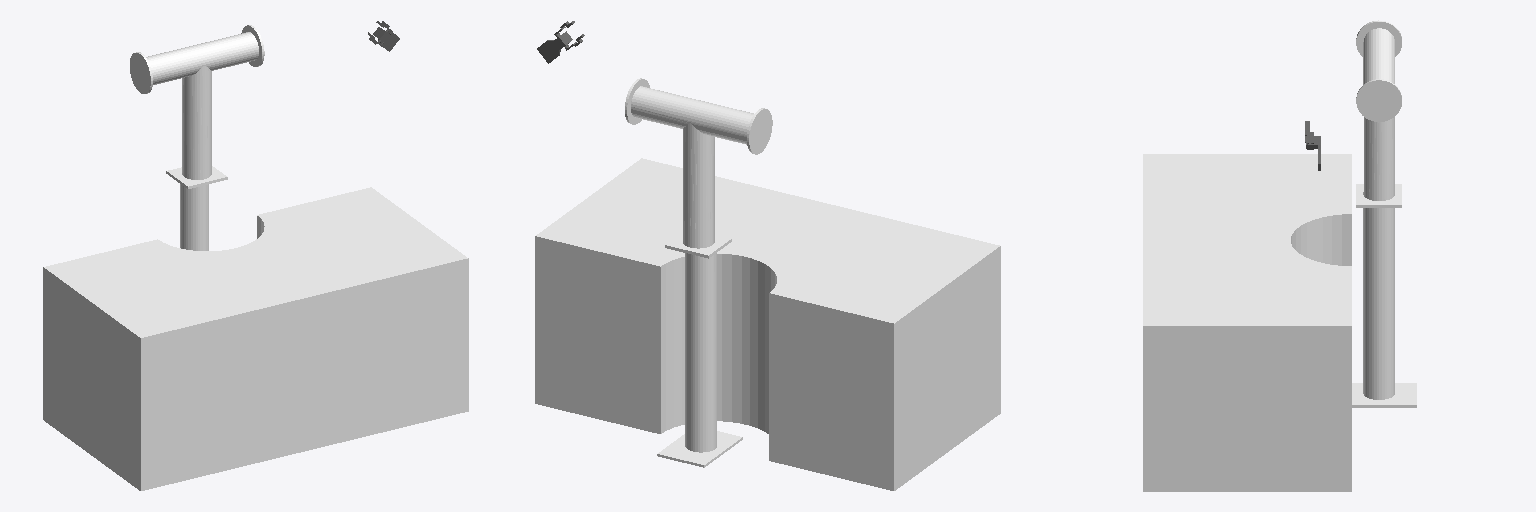
URDF robot description (aubo_i5):
<?xml version="1.0"?>
<robot  name="aubo_i5">

  <link name="base_link">
    <inertial>
      <origin xyz="-1.4795E-13 0.0015384 0.020951" rpy="0 0 0" />
      <mass value="0.83419" />
      <inertia ixx="0.0014414" ixy="7.8809E-15" ixz="8.5328E-16" iyy="0.0013542" iyz="-1.4364E-05" izz="0.0024659" />
    </inertial>
    <visual>
      <origin xyz="0 0 0" rpy="0 0 0" />
      <geometry>
        <mesh filename="package://aubo_description/meshes/aubo_i5/visual/base_link.DAE" />
      </geometry>
      <material name="">
        <color rgba="1 1 1 1" />
      </material>
    </visual>
    <collision>
      <origin xyz="0 0 0" rpy="0 0 0" />
      <geometry>
        <mesh filename="package://aubo_description/meshes/aubo_i5/collision/base_link.STL" />
      </geometry>
    </collision>
  </link>

  <link name="shoulder_Link">
    <inertial>
      <origin xyz="3.2508868974735E-07 0.00534955349296065 -0.00883689325611056" rpy="0 0 0" />
      <mass value="1.57658348693929" />
      <inertia ixx="0.0040640448663128" ixy="0" ixz="0" iyy="0.00392863238466817" iyz="-0.000160151642851425" izz="0.0030869857349184" />
    </inertial>
    <visual>
      <origin xyz="0 0 0" rpy="0 0 0" />
      <geometry>
        <mesh filename="package://aubo_description/meshes/aubo_i5/visual/shoulder_Link.DAE" />
      </geometry>
      <material name="">
        <color rgba="1 1 1 1" />
      </material>
    </visual>
    <collision>
      <origin xyz="0 0 0" rpy="0 0 0" />
      <geometry>
        <mesh filename="package://aubo_description/meshes/aubo_i5/collision/shoulder_Link.STL" />
      </geometry>
    </collision>
  </link>

  <joint name="shoulder_joint" type="revolute">
    <origin xyz="0 0 0.122" rpy="0 0 3.1416" />
    <parent link="base_link" />
    <child link="shoulder_Link" />
    <axis xyz="0 0 1" />
    <limit lower="-3.05" upper="3.05" effort="0" velocity="0" />
  </joint>

  <link name="upperArm_Link">
    <inertial>
      <origin xyz="0.203996646979614 2.01304585036544E-10 0.0127641545395984" rpy="0 0 0" />
      <mass value="4.04175782265494" />
      <inertia ixx="0.00965399211106204" ixy="0" ixz="0" iyy="0.144993869035655" iyz="0" izz="0.142607184038966" />
    </inertial>
    <visual>
      <origin xyz="0 0 0" rpy="0 0 0" />
      <geometry>
        <mesh filename="package://aubo_description/meshes/aubo_i5/visual/upperArm_Link.DAE" />
      </geometry>
      <material name="">
        <color rgba="1 1 1 1" />
      </material>
    </visual>
    <collision>
      <origin xyz="0 0 0" rpy="0 0 0" />
      <geometry>
        <mesh filename="package://aubo_description/meshes/aubo_i5/collision/upperArm_Link.STL" />
      </geometry>
    </collision>
  </link>

  <joint name="upperArm_joint" type="revolute">
    <origin xyz="0 0.1215 0" rpy="-1.5708 -1.5708 0" />
    <parent link="shoulder_Link" />
    <child link="upperArm_Link" />
    <axis xyz="0 0 1" />
    <limit lower="-3.05" upper="3.05" effort="0" velocity="0" />
  </joint>

  <link name="foreArm_Link">
    <inertial>
      <origin xyz="0.188922115560337 6.78882434739072E-07 0.0981026740461557" rpy="0 0 0" />
      <mass  value="2.27145669098343" />
      <inertia ixx="0.00214322284946289" ixy="0" ixz="-0.00073120631553383" iyy="0.0443926090878205" iyz="0" izz="0.0441273797128365" />
    </inertial>
    <visual>
      <origin xyz="0 0 0" rpy="0 0 0" />
      <geometry>
        <mesh filename="package://aubo_description/meshes/aubo_i5/visual/foreArm_Link.DAE" />
      </geometry>
      <material name="">
        <color rgba="1 1 1 1" />
      </material>
    </visual>
    <collision>
      <origin xyz="0 0 0" rpy="0 0 0" />
      <geometry>
        <mesh filename="package://aubo_description/meshes/aubo_i5/collision/foreArm_Link.STL" />
      </geometry>
    </collision>
  </link>

  <joint name="foreArm_joint" type="revolute">
    <origin xyz="0.408 0 0" rpy="-3.1416 -5.1632E-18 -5.459E-16" />
    <parent link="upperArm_Link" />
    <child link="foreArm_Link" />
    <axis xyz="0 0 1" />
    <limit lower="-3.05" upper="3.05" effort="0" velocity="0" />
  </joint>

  <link name="wrist1_Link">
    <inertial>
      <origin xyz="7.54205137428592E-07 0.0062481254331257 -0.00392367464072373" rpy="0 0 0" />
      <mass value="0.500477539188764" />
      <inertia ixx="0.00071194605962081" ixy="0" ixz="0" iyy="0.00040588242872958" iyz="-2.30808694377512E-05" izz="0.000685574004861334" />
    </inertial>
    <visual>
      <origin xyz="0 0 0" rpy="0 0 0" />
      <geometry>
        <mesh filename="package://aubo_description/meshes/aubo_i5/visual/wrist1_Link.DAE" />
      </geometry>
      <material name="">
        <color rgba="1 1 1 1" />
      </material>
    </visual>
    <collision>
      <origin xyz="0 0 0" rpy="0 0 0" />
      <geometry>
        <mesh filename="package://aubo_description/meshes/aubo_i5/collision/wrist1_Link.STL" />
      </geometry>
    </collision>
  </link>

  <joint name="wrist1_joint" type="revolute">
    <origin xyz="0.376 0 0" rpy="3.1416 -1.8323E-15 1.5708" />
    <parent link="foreArm_Link" />
    <child link="wrist1_Link" />
    <axis xyz="0 0 1" />
    <limit lower="-3.05" upper="3.05" effort="0" velocity="0" />
  </joint>

  <link name="wrist2_Link">
    <inertial>
      <origin xyz="-7.54207620578635E-07 -0.00624812542617262 -0.00392367464115684" rpy="0 0 0" />
      <mass value="0.500477539245988" />
      <inertia ixx="0.00071194605981829" ixy="0" ixz="0" iyy="0.000405882428755442" iyz="2.30808694515886E-05" izz="0.000685574005112107" />
    </inertial>
    <visual>
      <origin xyz="0 0 0" rpy="0 0 0" />
      <geometry>
        <mesh filename="package://aubo_description/meshes/aubo_i5/visual/wrist2_Link.DAE" />
      </geometry>
      <material name="">
        <color rgba="1 1 1 1" />
      </material>
    </visual>
    <collision>
      <origin xyz="0 0 0" rpy="0 0 0" />
      <geometry>
        <mesh filename="package://aubo_description/meshes/aubo_i5/collision/wrist2_Link.STL" />
      </geometry>
    </collision>
  </link>

  <joint name="wrist2_joint" type="revolute">
    <origin xyz="0 0.1025 0" rpy="-1.5708 -1.8709E-15 -1.6653E-16" />
    <parent link="wrist1_Link" />
    <child link="wrist2_Link" />
    <axis xyz="0 0 1" />
    <limit lower="-3.05" upper="3.05" effort="0" velocity="0" />
  </joint>

  <link name="wrist3_Link">
    <inertial>
      <origin xyz="3.92048778449938E-10 0.000175788057281467 -0.0213294490706684" rpy="0 0 0" />
      <mass value="0.158309554874285" />
      <inertia ixx="7.31376196034769E-05" ixy="0" ixz="0" iyy="7.19528188876563E-05" iyz="0" izz="0.000108772439051422" />
    </inertial>
    <visual>
      <origin xyz="0 0 0" rpy="0 0 0" />
      <geometry>
        <mesh filename="package://aubo_description/meshes/aubo_i5/visual/wrist3_Link.DAE" />
      </geometry>
      <material name="">
        <color rgba="1 1 1 1" />
      </material>
    </visual>
    <collision>
      <origin xyz="0 0 0" rpy="0 0 0" />
      <geometry>
        <mesh filename="package://aubo_description/meshes/aubo_i5/collision/wrist3_Link.STL" />
      </geometry>
    </collision>
  </link>

  <joint name="wrist3_joint" type="revolute">
    <origin xyz="0 -0.094 0" rpy="1.5708 0 1.7907E-15" />
    <parent link="wrist2_Link" />
    <child link="wrist3_Link" />
    <axis xyz="0 0 1" />
    <limit lower="-3.05" upper="3.05" effort="0" velocity="0" />
  </joint>

  <link name="world" />

  <joint name="world_joint" type="fixed">
    <parent link="world" />
    <child link = "base_link" />
    <origin xyz="-.52 0.0 1.4" rpy="0.0 1.5708 0.0 " /> <!-- for right arm -->
    <!-- <origin xyz="-.52 0.0 1.4" rpy="0.0 -1.5708 0.0 " /> for left arm -->
  </joint>

<link name="robot_flange"/>
  <joint name="robot_joint_6-flange" type="fixed">
    <origin rpy="0 0 0" xyz="0 0 0"/>
    <parent link="wrist3_Link"/>
    <child link="robot_flange"/>
  </joint>
<link name="eef_base_link">
    <visual>
      <!-- <origin rpy="0 0 0" xyz="0 0 0" /> -->
      <origin rpy="0 1.5708 -2.3458" xyz="-0.005 .06 .057"/>
      <geometry>
        <mesh filename="package://aubo_description/meshes/aubo_i5/collision/gripper_left.STL"/>
      </geometry>
      <material name="">
        <color rgba="0.45 0.45 0.45 1.0"/>
      </material>
    </visual>
    <collision>
      <origin rpy="0 1.5708 -2.3458" xyz="-0.005 .06 .057"/>
      <geometry>
        <mesh filename="package://aubo_description/meshes/aubo_i5/collision/gripper_left.STL"/>
      </geometry>
    </collision>
  </link>


  <joint name="robot_flange-eef_base_link" type="fixed">
    <origin rpy="0 0 0" xyz="0 0 0"/>
    <parent link="robot_flange"/>
    <child link="eef_base_link"/>
  </joint>
<link name="eef_tool_tip"/>
  <joint name="eef_base_link-eef_tool_tip" type="fixed">
    <origin xyz="-0.105 -.095 .045" rpy="1.57 0 -0.775"/>
    <parent link="eef_base_link"/>
    <child link="eef_tool_tip"/>
  </joint>
<link name="eef"/> 

  <joint name="eef_joint" type="fixed">
    <origin rpy="0 0 0" xyz="0 0 0"/>
    <parent link="eef_tool_tip"/>
    <child link="eef"/>
  </joint>
  
<link name="camera_link">
      <visual>
      <origin xyz="0.0149 -0.0175 0" rpy="1.570796327 0 1.570796327"/>
        <geometry>
          <!-- <box size="0.090 0.025 0.02505"/> -->
          <mesh filename="package://realsense2_description/meshes/d435.dae" />
          <!--<mesh filename="package://realsense2_description/meshes/d435/d435.dae" />-->

        </geometry>
        <material name="aluminum"/>
      </visual>
      <collision>
        <origin xyz="0 -0.0175 0" rpy="0 0 0"/>
        <geometry>
        <box size="0.02505 0.090 0.025"/>
        </geometry>
      </collision>
      <inertial>
        <!-- The following are not reliable values, and should not be used for modeling -->
        <mass value="0.564" />
        <origin xyz="0 0 0" />
        <inertia ixx="0.003881243" ixy="0.0" ixz="0.0" iyy="0.000498940" iyz="0.0" izz="0.003879257" />
      </inertial>
    </link>

<joint name="camera_link_joint" type="fixed">
    <parent link="wrist3_Link" />
    <child link = "camera_link" />
    <origin xyz="-0.0378802334313 -0.0686170977944 0.10023537007" rpy="0.0246955938247 -0.0414930392974 2.31472207415" />
  </joint>



<link name="table_link">
    <visual>
      <!-- <origin rpy="0 0 0" xyz="0 0 0" /> -->
      <origin rpy="0 0 0" xyz="-1.02 -.87 0.04"/>
      <geometry>
        <mesh filename="package://aubo_description/meshes/aubo_i5/collision/table6.STL"/>
      </geometry>
      <material name="">
        <color rgba="1 1 1 1"/>
      </material>
    </visual>
    <collision>
      <origin rpy="0 0 0" xyz="-1.02 -.87 .04"/>
      <geometry>
        <mesh filename="package://aubo_description/meshes/aubo_i5/collision/table6.STL"/>
      </geometry>
    </collision>
  </link>

  <joint name="table_joint" type="fixed">
    <origin rpy="0 0 0" xyz="0 0 0"/>
    <parent link="world"/>
    <child link="table_link"/>
  </joint>


<link name="t_link">
    <visual>
      <!-- <origin rpy="0 0 0" xyz="0 0 0" /> -->
      <origin rpy="-1.5708 0 1.5708" xyz="0 -.14 1.485"/>
      <geometry>
        <mesh filename="package://aubo_description/meshes/aubo_i5/collision/tshape.STL"/>
      </geometry>
      <material name="">
        <color rgba="1 1 1 1"/>
      </material>
    </visual>
    <collision>
      <origin rpy="0 0 0" xyz="0 0 0"/>
      <geometry>
        <mesh filename="package://aubo_description/meshes/aubo_i5/collision/tshape.STL"/>
      </geometry>
    </collision>
  </link>

  <joint name="t_joint" type="fixed">
    <origin rpy="0 0 0" xyz="0 0 0"/>
    <parent link="world"/>
    <child link="t_link"/>
  </joint>

</robot>

--- What the picture shows (computed from the rendered views, not written in the file) ---
Views: 3 orthographic renders of the robot side by side, from view 1: azimuth 30°, elevation 25°; view 2: azimuth 150°, elevation 25°; view 3: azimuth 270°, elevation 25°.
Robot: aubo_i5 — 15 links, 14 joints (6 revolute, 8 fixed); root link world; default pose: all joints at 0.
Visible links, largest first — view 1: table_link, t_link; view 2: table_link, t_link, eef_base_link; view 3: table_link, t_link.
Link boxes in pixels (<box>): table_link: <box>43,187,468,490</box>; t_link: <box>130,25,264,250</box>; table_link: <box>535,158,1000,490</box>; t_link: <box>625,78,772,467</box>; eef_base_link: <box>537,21,584,63</box>; table_link: <box>1143,154,1351,491</box>; t_link: <box>1352,20,1416,407</box>.
Bounding box of the posed robot: 1.56 × 1.01 × 1.48 m (x, y, z).
Meshes: 11 distinct files referenced, 3 mesh visuals loaded (3 binary STL); not drawn: 8 (reference not matched to a file when rendering).